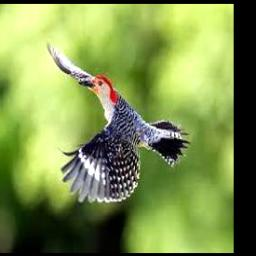Woodpecker: (47, 40, 189, 202)
